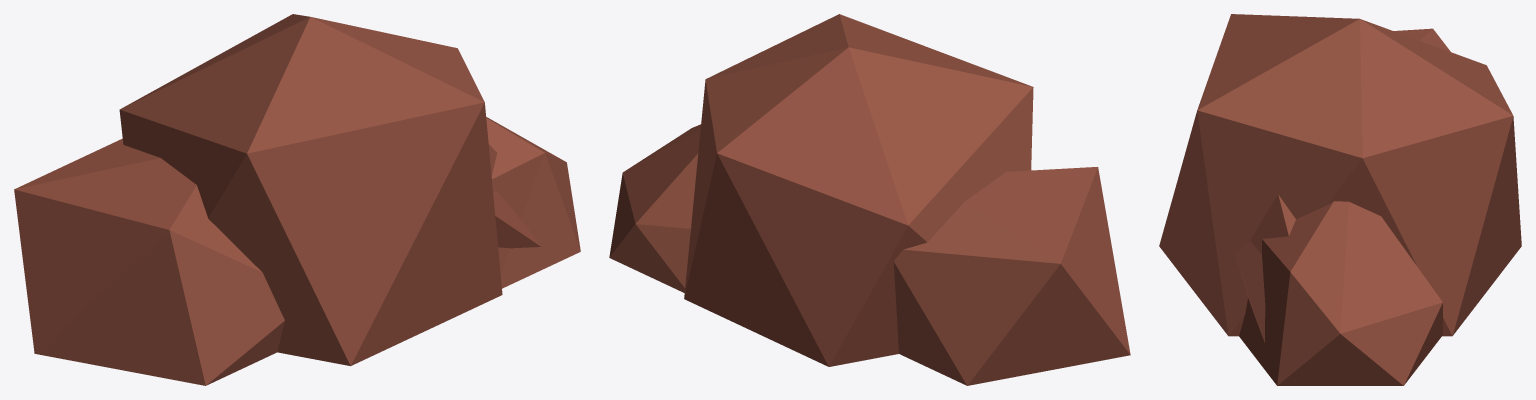
The model's file is bushlowpoly_2.fbx.
3 renders of one model, left to right at view 1: azimuth 30°, elevation 25°; view 2: azimuth 150°, elevation 25°; view 3: azimuth 270°, elevation 25°, orthographic. The views are drawn at different scales.
Visible parts, largest first — view 1: bush 2; view 2: bush 2; view 3: bush 2.
Boxes of the visible parts, <box> form: bush 2: <box>14,14,580,385</box>; bush 2: <box>609,14,1130,385</box>; bush 2: <box>1159,14,1521,385</box>.
Size of the model in its own units: 345 by 161 by 206.
